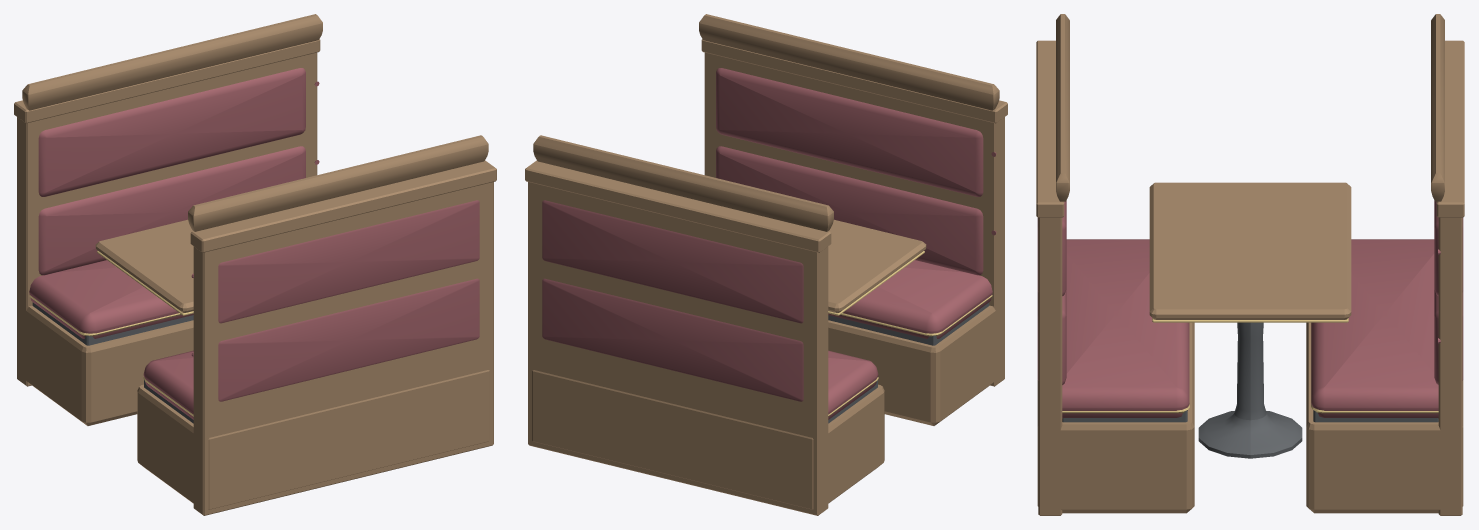
Rendered from bar-pub-and-brewery-taproom-pub-booth-4-17af318a__18372.glb.
The picture shows the model from 3 angles, left to right: view 1: azimuth 30°, elevation 25°; view 2: azimuth 150°, elevation 25°; view 3: azimuth 270°, elevation 25°; orthographic projection. The views are drawn at different scales.
Parts seen in each view (by area): view 1: pub-booth-4; view 2: pub-booth-4; view 3: pub-booth-4.
Part boxes in pixels (x1,y1,x2,y2): pub-booth-4: [14, 14, 496, 515]; pub-booth-4: [525, 14, 1007, 515]; pub-booth-4: [1036, 14, 1464, 515].
Bounding box in the file's own units: 1.38 × 1.35 × 1.53.
